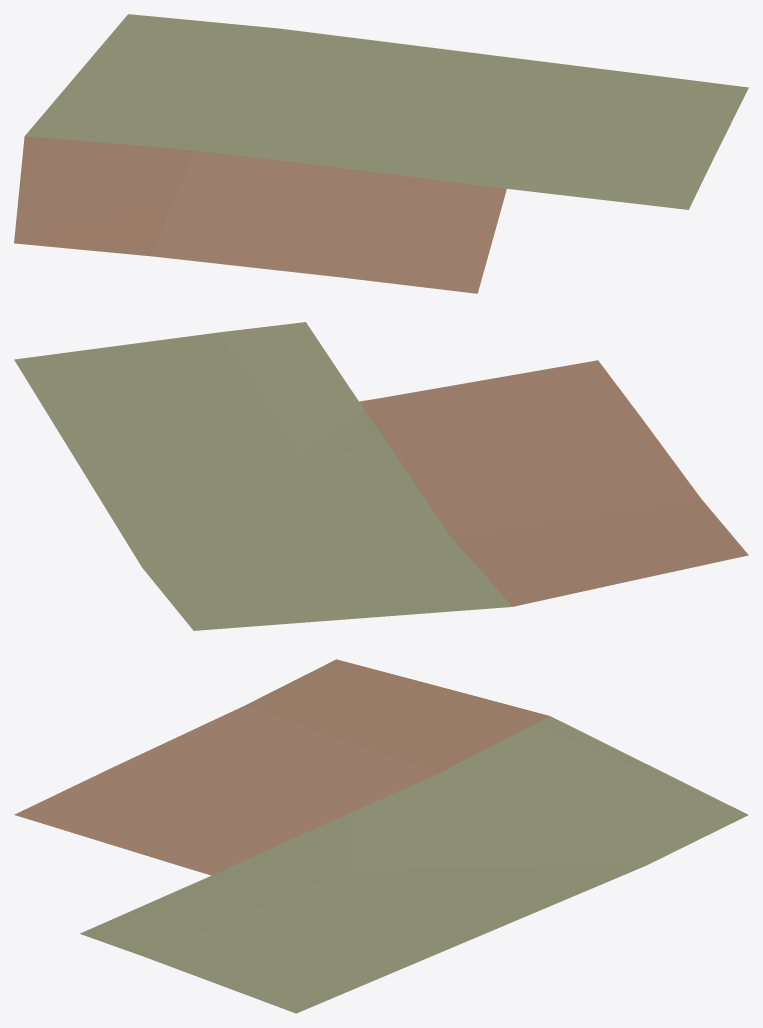
File: farm_-44_-39_soil.glb
3 renders of one model, top to bottom at view 1: azimuth 30°, elevation 25°; view 2: azimuth 150°, elevation 25°; view 3: azimuth 270°, elevation 25°, orthographic. The views are drawn at different scales.
Visible parts, largest first — view 1: geometry_0; view 2: geometry_0; view 3: geometry_0.
Boxes of the visible parts, left/top/right/bottom form: geometry_0: left=14, top=14, right=748, bottom=293; geometry_0: left=14, top=322, right=748, bottom=630; geometry_0: left=14, top=659, right=748, bottom=1013.
Bounding box in the file's own units: 130 × 1.37 × 116.
